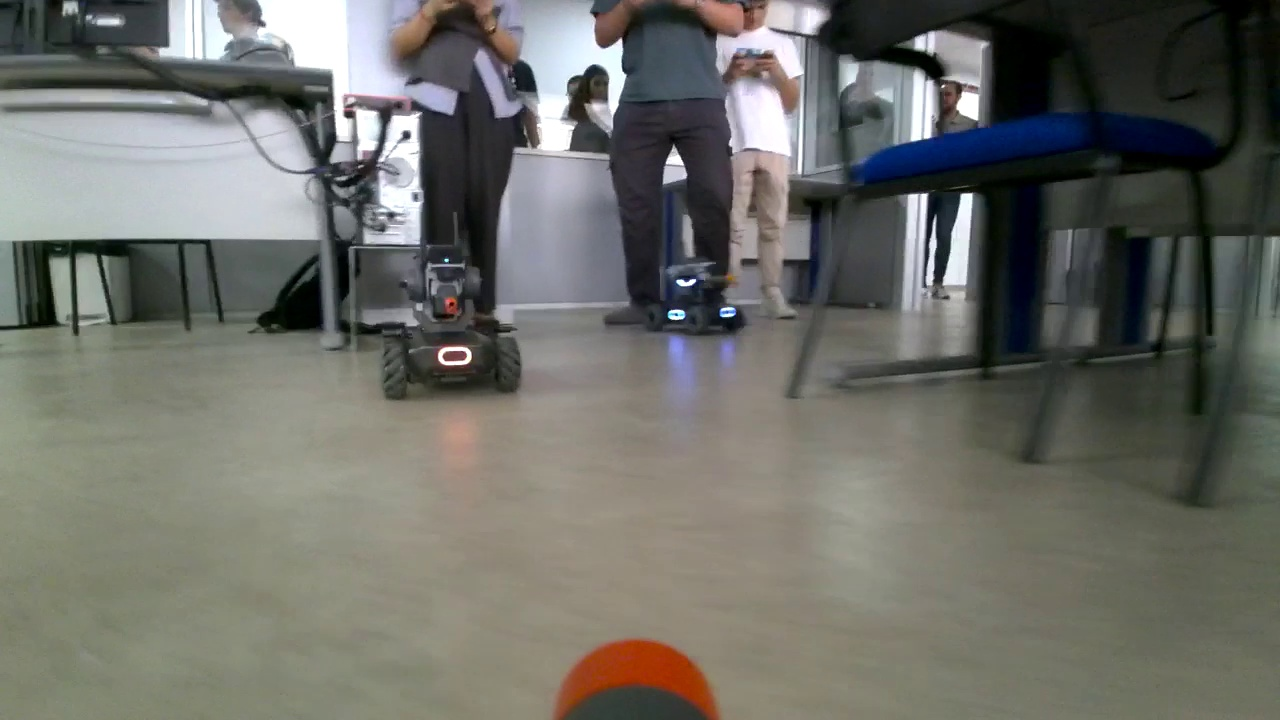robot: (376, 214, 529, 398), (643, 239, 749, 340)
